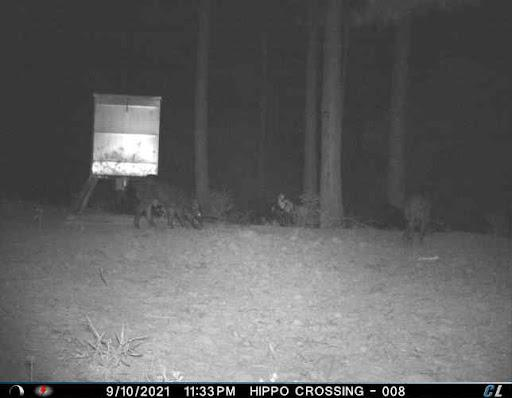Hog: (127, 166, 208, 232)
